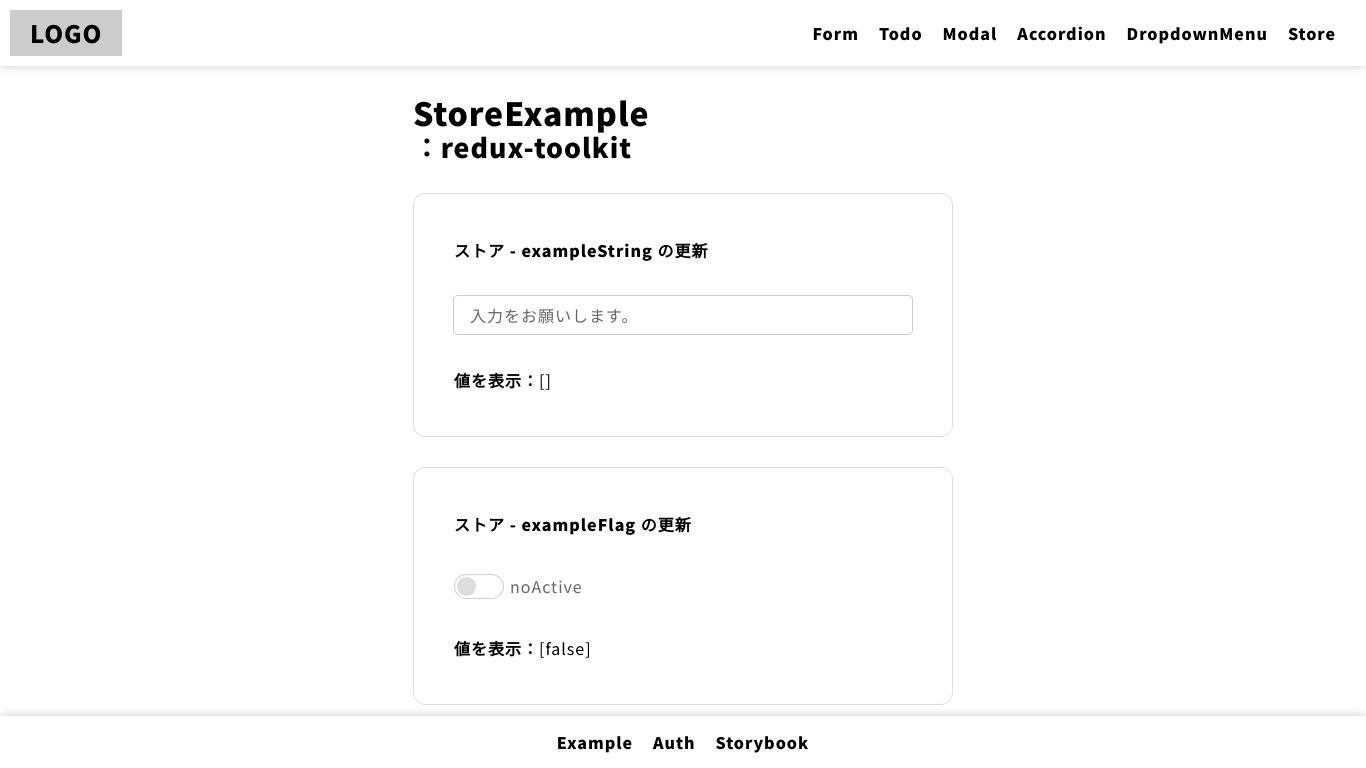
StoreExample page › renders and reflects text and flag changes
Check: the heading "StoreExample：redux-toolkit" is shown, box [413, 89, 650, 166]
Type "updated" into the field with placeholder "入力をお願いします。" at coordinates (683, 315), box [454, 296, 912, 334]
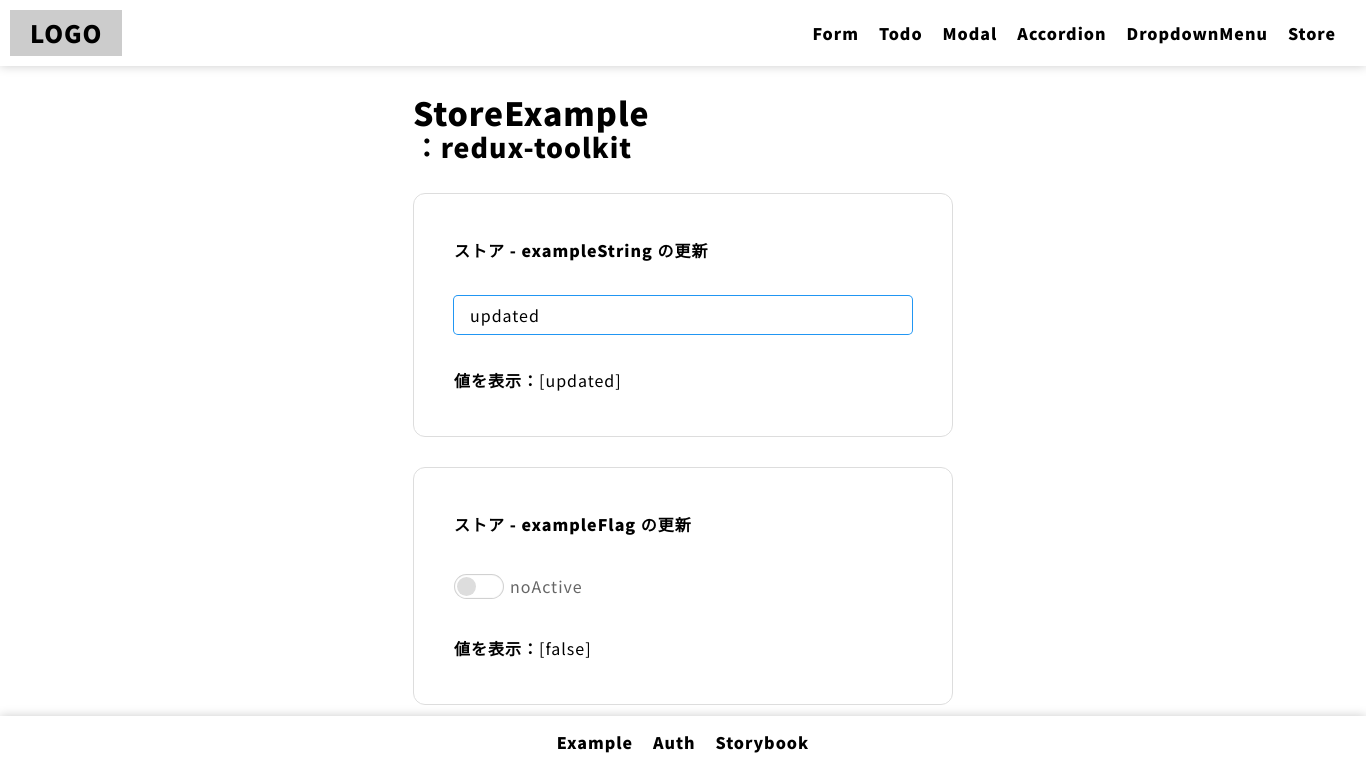
Check: the text "値を表示：[updated]" is shown, box [454, 368, 622, 392]
Click the text "noActive" at coordinates (546, 586), box [510, 570, 583, 602]
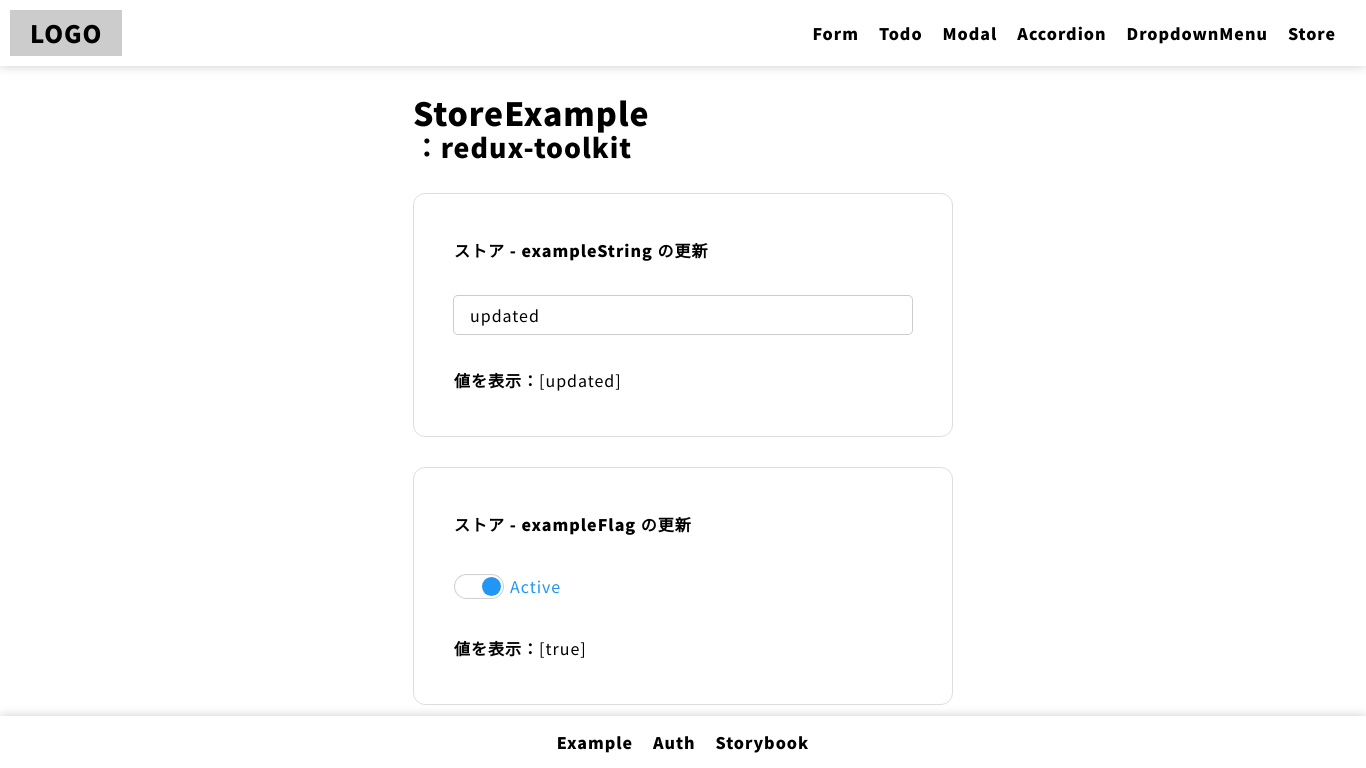
Check: the text "値を表示：[true]" is shown, box [454, 636, 587, 660]
